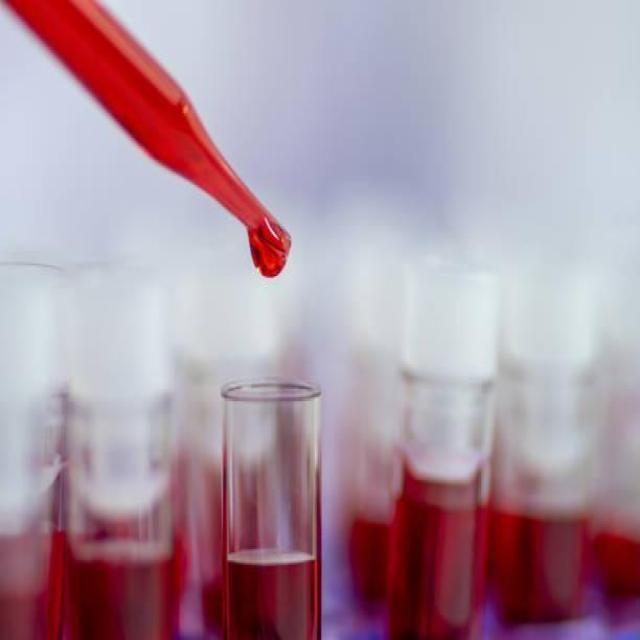flood: (179, 110, 330, 330)
